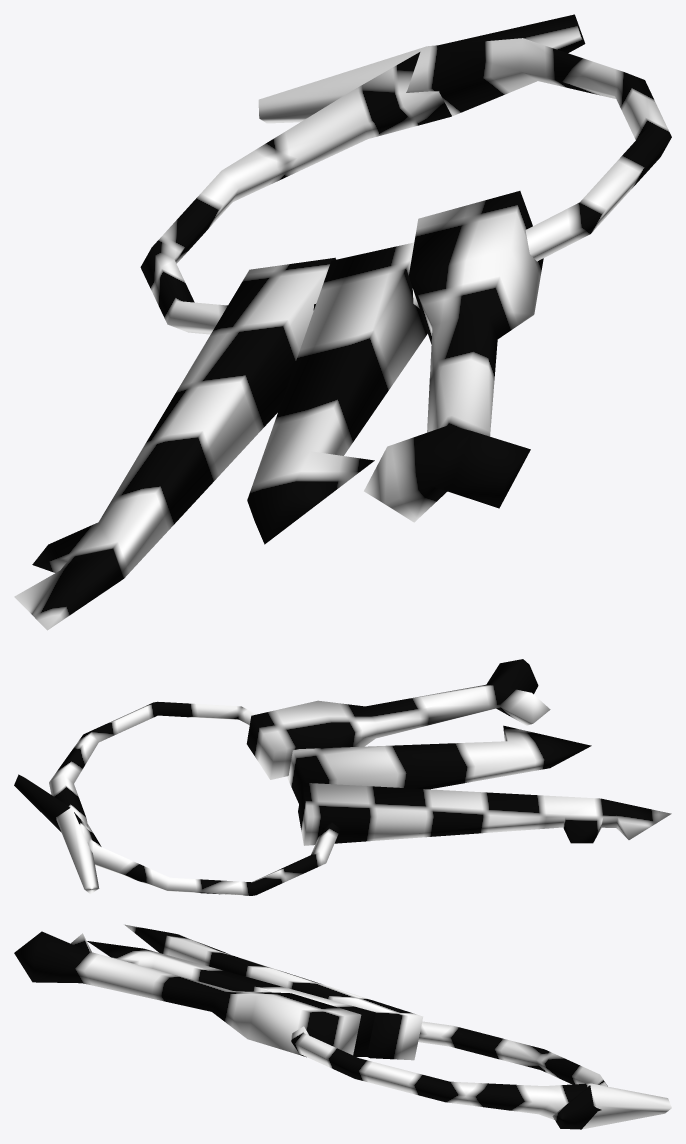
The model's file is initqi31.dae.
3 views of the same model, one above another, from view 1: azimuth 30°, elevation 25°; view 2: azimuth 150°, elevation 25°; view 3: azimuth 270°, elevation 25° (orthographic). The views are drawn at different scales.
Visible parts, largest first — view 1: item; view 2: item; view 3: item.
Boxes of the visible parts, x1,y1,x2,y2 form: item: (14, 14, 671, 630); item: (14, 659, 671, 895); item: (14, 924, 671, 1129).
Size of the model in its own units: 1.28 by 1.36 by 0.2485.
Materials: 1 (1 with a texture image).
